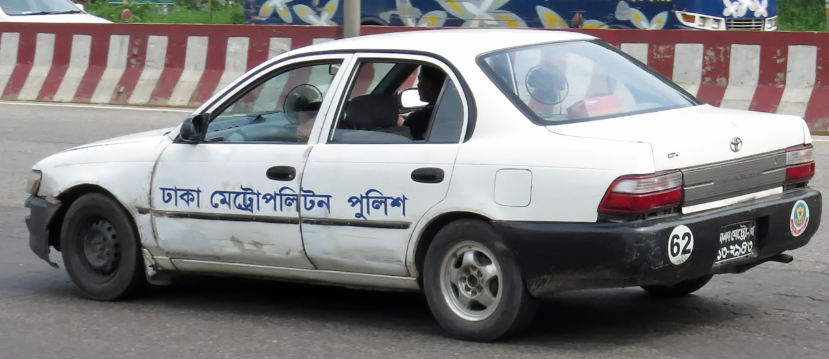Police cars: (22, 11, 823, 343)
